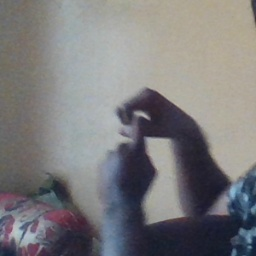Q: (100, 87, 196, 191)
